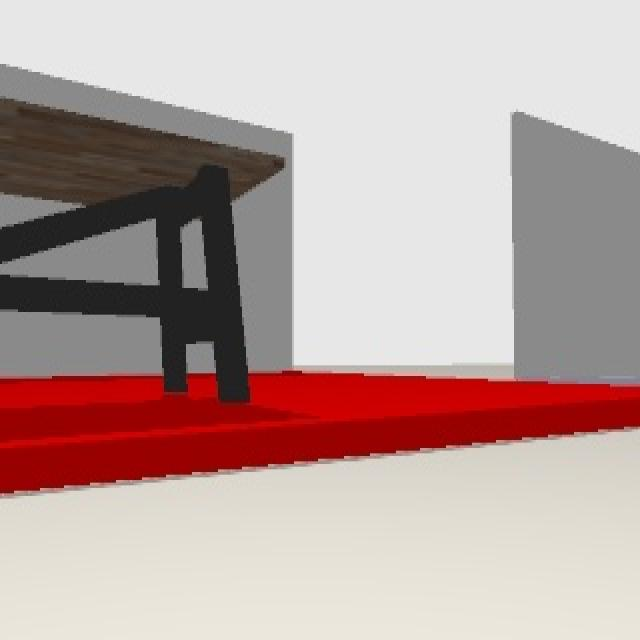dining: (1, 96, 288, 403)
